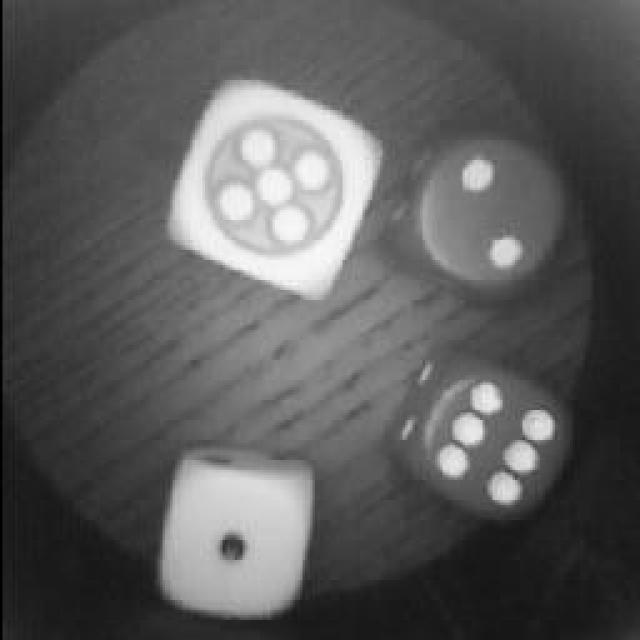dice_1: (137, 440, 315, 628)
dice_2: (388, 120, 582, 305)
dice_5: (155, 68, 383, 300)
dice_6: (405, 358, 575, 528)
